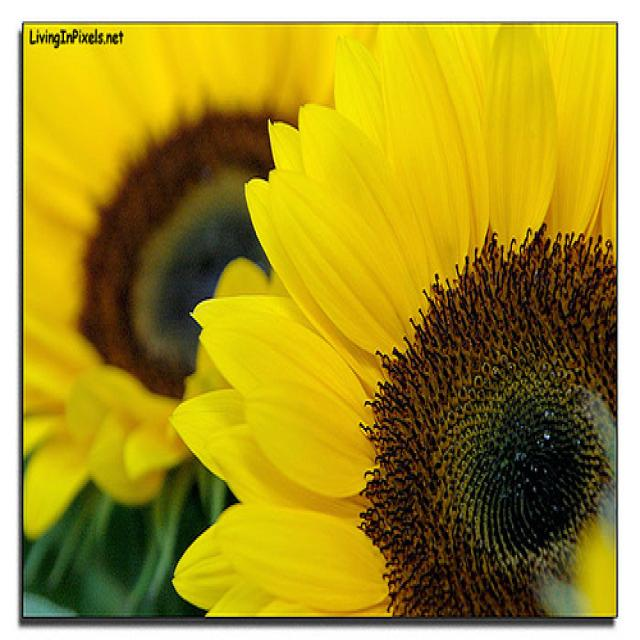sunflower: (166, 26, 618, 614)
